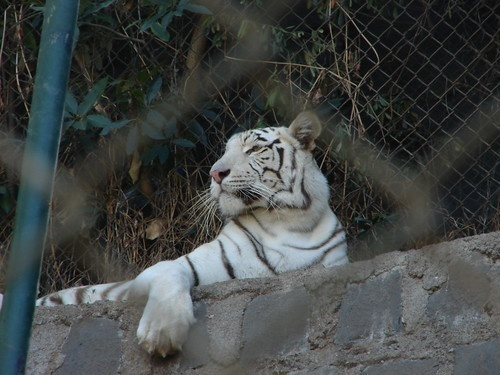tigre: (31, 106, 351, 352)
